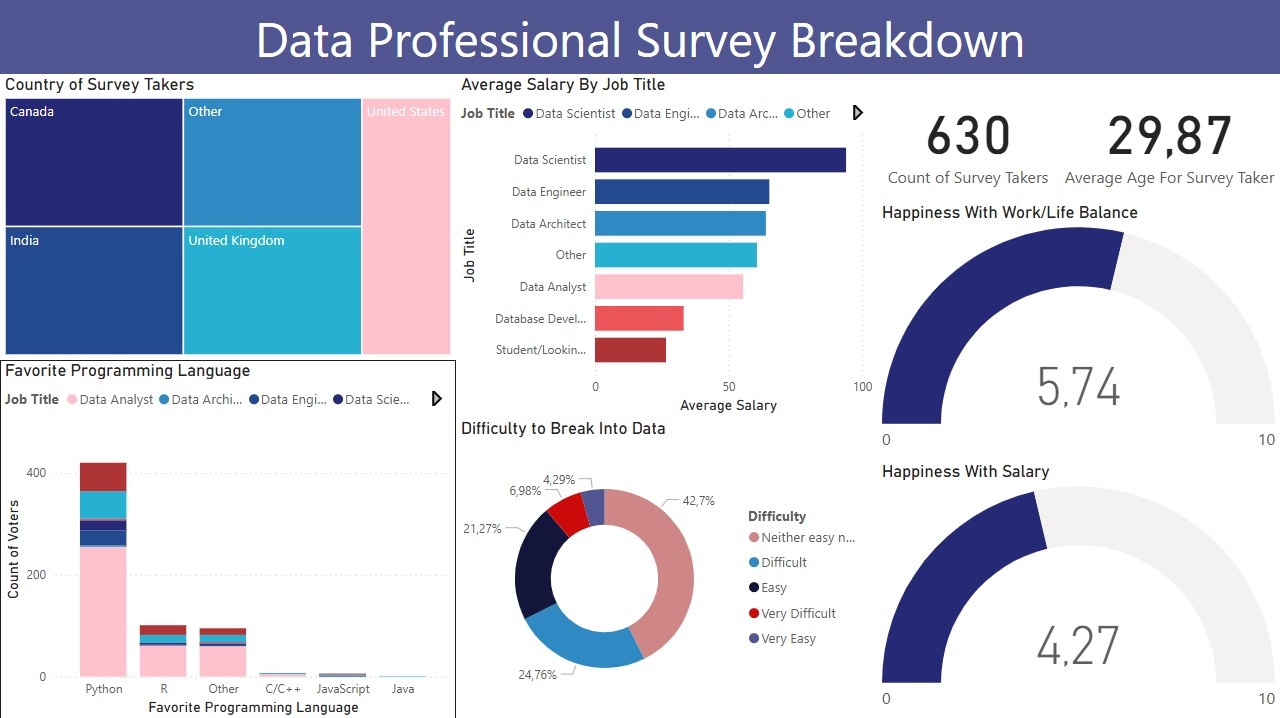

What the dashboard file says about the page in this screenshot:
{"tool":"powerbi","page":{"name":"Page 1","canvas":[1280,720],"ordinal":0},"visuals":[{"type":"textbox","box":[0,0,1280,73.9],"z":0},{"type":"card","fields":{"Values":["CountNonNull(Data Professional Survey.Unique ID)"]},"box":[877.3,73.9,181.9,128.4],"z":1},{"type":"card","fields":{"Values":["Avg(Data Professional Survey.Q10 - Current Age)"]},"box":[1059.2,73.9,220.8,128.4],"z":2},{"type":"barChart","title":"Average Salary By Job Title","fields":{"Category":["Data Professional Survey.Q1 - Which Title Best Fits your Current Role?.1"],"Y":["Avg(Data Professional Survey.Average Salary)"],"Series":["Data Professional Survey.Q1 - Which Title Best Fits your Current Role?.1"]},"box":[456.2,73.9,421.2,344.3],"z":3},{"type":"columnChart","title":"Favorite Programming Language","fields":{"Category":["Data Professional Survey.Q5 - Favorite Programming Language.1"],"Y":["CountNonNull(Data Professional Survey.Unique ID)"],"Series":["Data Professional Survey.Q1 - Which Title Best Fits your Current Role?.1"]},"box":[0,359.9,456.2,359.9],"z":4},{"type":"treemap","title":"Country of Survey Takers","fields":{"Group":["Data Professional Survey.Q11 - Which Country do you live in?.1"],"Values":["Count(Data Professional Survey.Q11 - Which Country do you live in?.1)"]},"box":[0,73.9,456.2,286],"z":5},{"type":"gauge","title":"Happiness With Work/Life Balance","fields":{"Y":["Avg(Data Professional Survey.Q6 - How Happy are you in your Current Position with the following? (Work/Life Balance))"],"MinValue":["Min(Data Professional Survey.Q6 - How Happy are you in your Current Position with the following? (Work/Life Balance))1"],"MaxValue":["Max(Data Professional Survey.Q6 - How Happy are you in your Current Position with the following? (Work/Life Balance))2"]},"box":[877.3,202.3,402.7,258.7],"z":6},{"type":"gauge","title":"Happiness With Salary","fields":{"Y":["Avg(Data Professional Survey.Q6 - How Happy are you in your Current Position with the following? (Salary))"],"MinValue":["Min(Data Professional Survey.Q6 - How Happy are you in your Current Position with the following? (Salary))"],"MaxValue":["Max(Data Professional Survey.Q6 - How Happy are you in your Current Position with the following? (Salary))1"]},"box":[877.3,461,402.7,258.7],"z":7},{"type":"donutChart","title":"Difficulty to Break Into Data","fields":{"Category":["Data Professional Survey.Q7 - How difficult was it for you to break into Data?"],"Y":["CountNonNull(Data Professional Survey.Q7 - How difficult was it for you to break into Data?)"]},"box":[456.2,418.2,421.2,301.5],"z":8}]}

Visuals, with their boxes in screenshot pixels (x1, y1, x2, y2), scaled from the page's 1280x720 canvas onto the 1280x718 screenshot:
textbox: {"x1": 0, "y1": 0, "x2": 1279, "y2": 74}
card - CountNonNull(Data Professional Survey.Unique ID): {"x1": 877, "y1": 74, "x2": 1059, "y2": 202}
card - Avg(Data Professional Survey.Q10 - Current Age): {"x1": 1059, "y1": 74, "x2": 1279, "y2": 202}
"Average Salary By Job Title" barChart: {"x1": 456, "y1": 74, "x2": 877, "y2": 417}
"Favorite Programming Language" columnChart: {"x1": 0, "y1": 359, "x2": 456, "y2": 717}
"Country of Survey Takers" treemap: {"x1": 0, "y1": 74, "x2": 456, "y2": 359}
"Happiness With Work/Life Balance" gauge: {"x1": 877, "y1": 202, "x2": 1279, "y2": 460}
"Happiness With Salary" gauge: {"x1": 877, "y1": 460, "x2": 1279, "y2": 717}
"Difficulty to Break Into Data" donutChart: {"x1": 456, "y1": 417, "x2": 877, "y2": 717}
